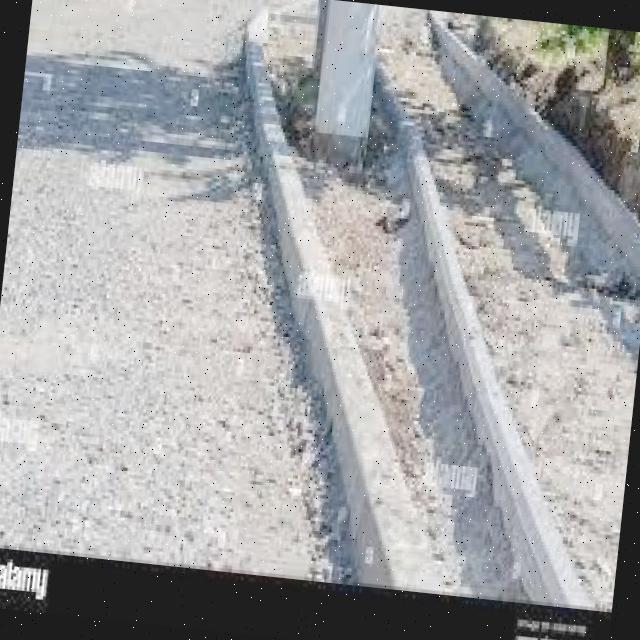curb: (249, 67, 430, 582), (413, 121, 587, 592)
